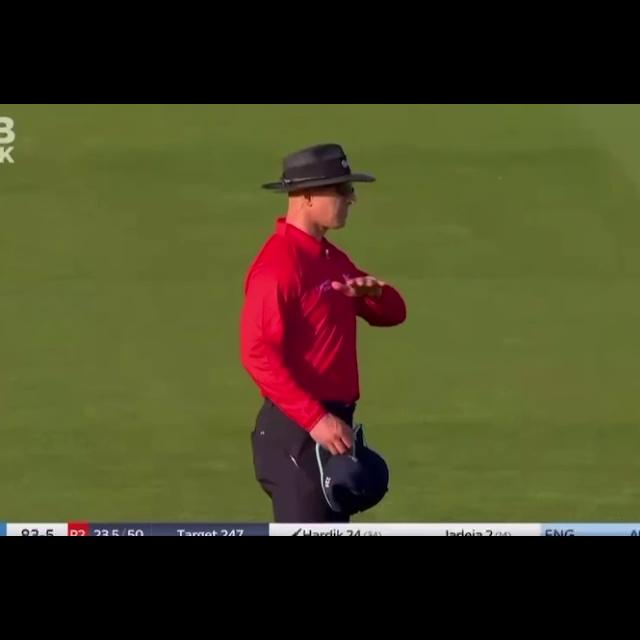umpire: (238, 139, 405, 525)
